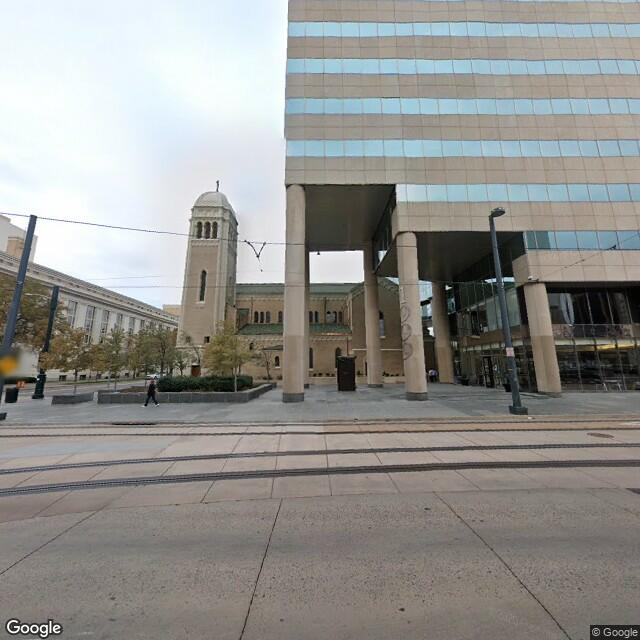lamp: (481, 206, 533, 416)
